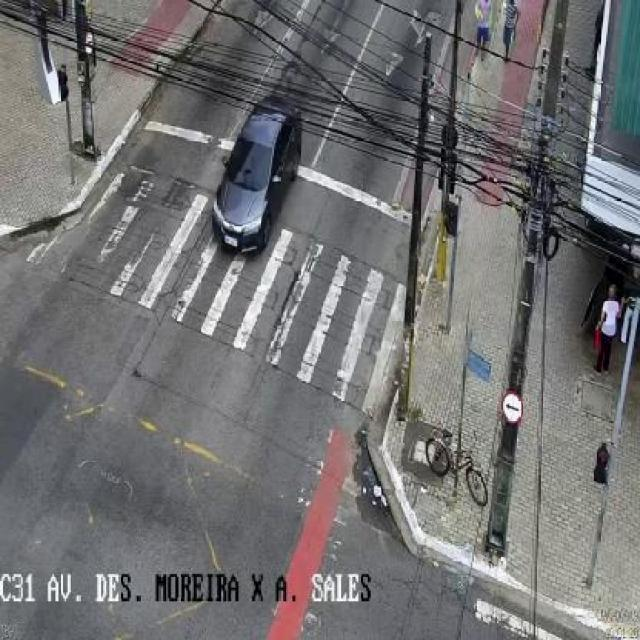Car: (215, 94, 305, 255)
Cycle: (424, 418, 494, 512)
